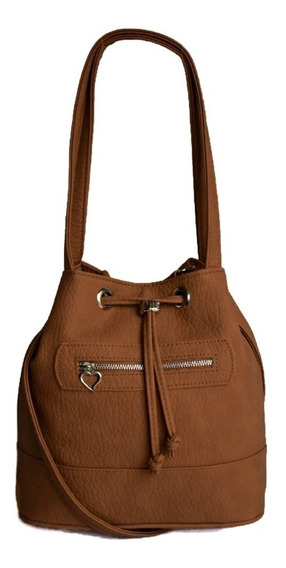cartera: (15, 28, 270, 539)
